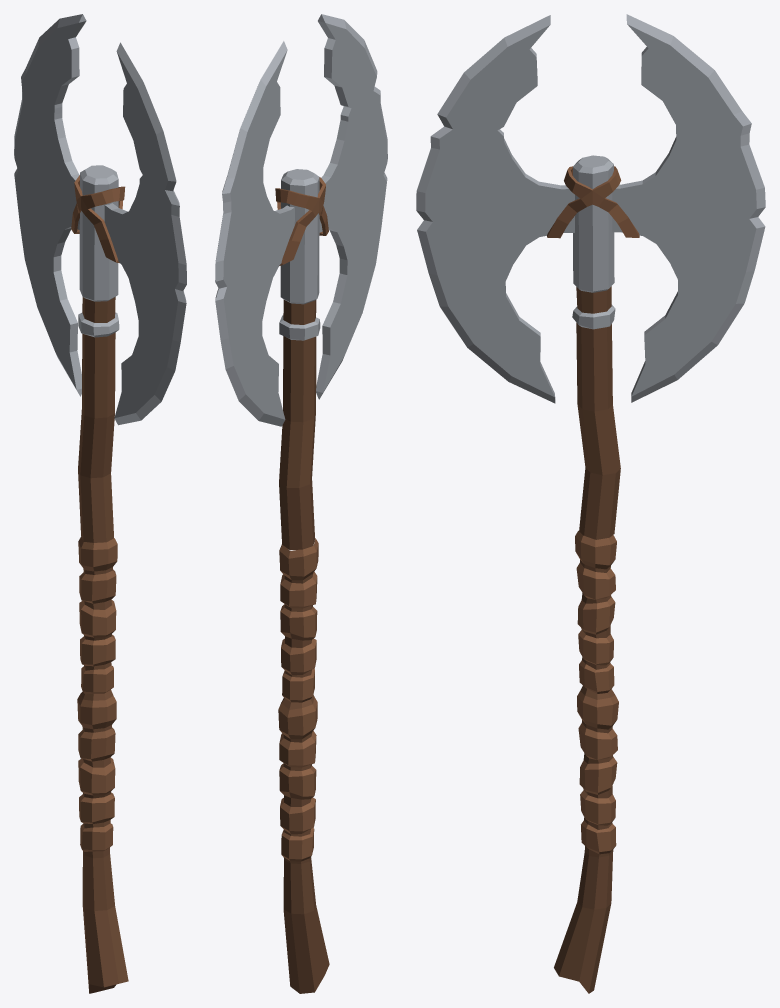
Rendered from greataxe.glb.
3 views of the same model, side by side, from view 1: azimuth 30°, elevation 25°; view 2: azimuth 150°, elevation 25°; view 3: azimuth 270°, elevation 25° (orthographic).
Visible parts, largest first — view 1: greataxe; view 2: greataxe; view 3: greataxe.
Boxes of the visible parts, x1,y1,x2,y2 form: greataxe: (14,14,186,993); greataxe: (215,14,387,993); greataxe: (416,14,765,993).
Bounding box in the file's own units: 0.0534 × 1.3 × 0.422.
